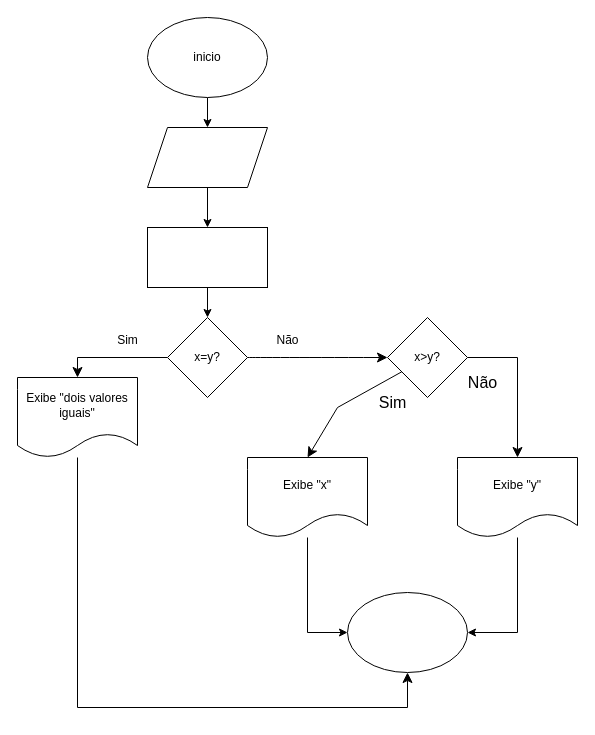
This 595x735 diagram has some shape labels left out. The shapes that lost their labels are listed below. From the top down, each one's box as (x1, y1, x2, y2) in pixels, then its label:
(146, 126, 268, 188): recebe "x" recebe "y"
(146, 226, 268, 288): Processa as variaveis
(346, 592, 468, 672): Fim
